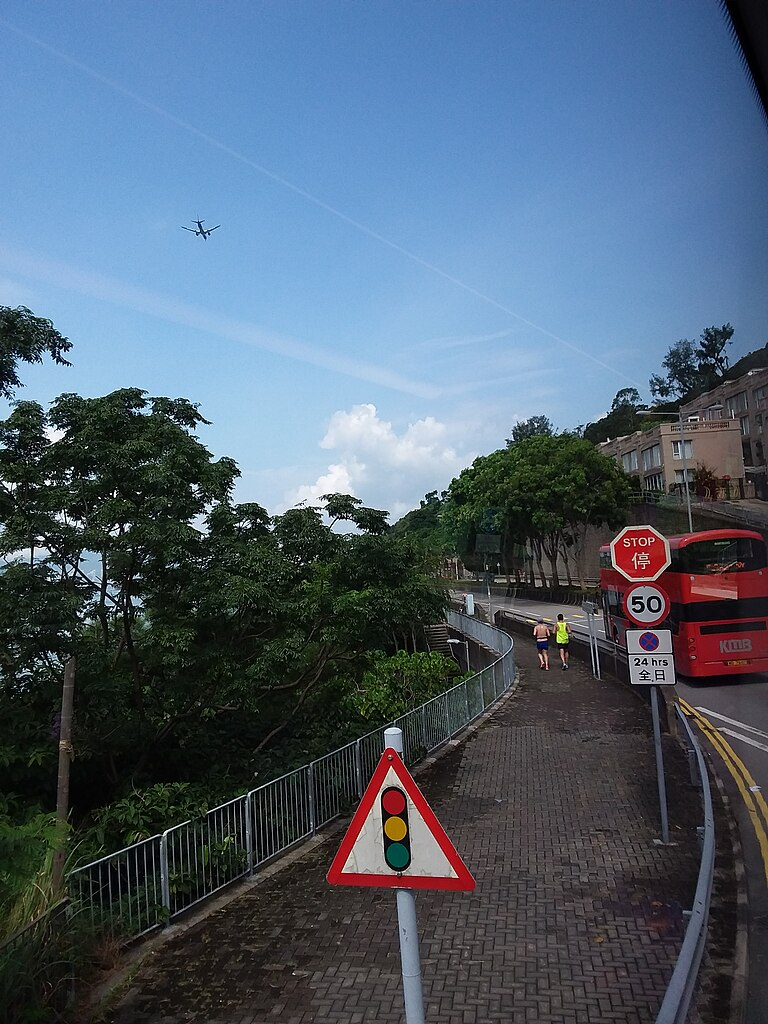Speed Limit: (623, 587, 672, 622)
Start Of No Stopping: (628, 627, 677, 688)
Stop: (608, 523, 676, 583)
